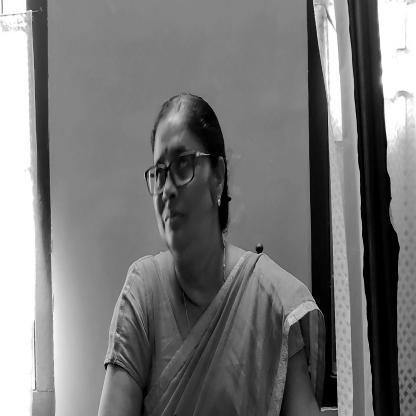Distracted: (154, 107, 230, 260)
